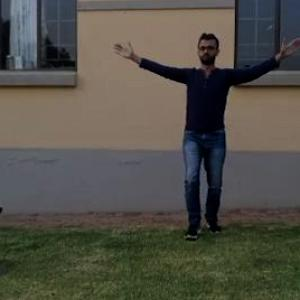takeoff: (114, 29, 296, 233)
